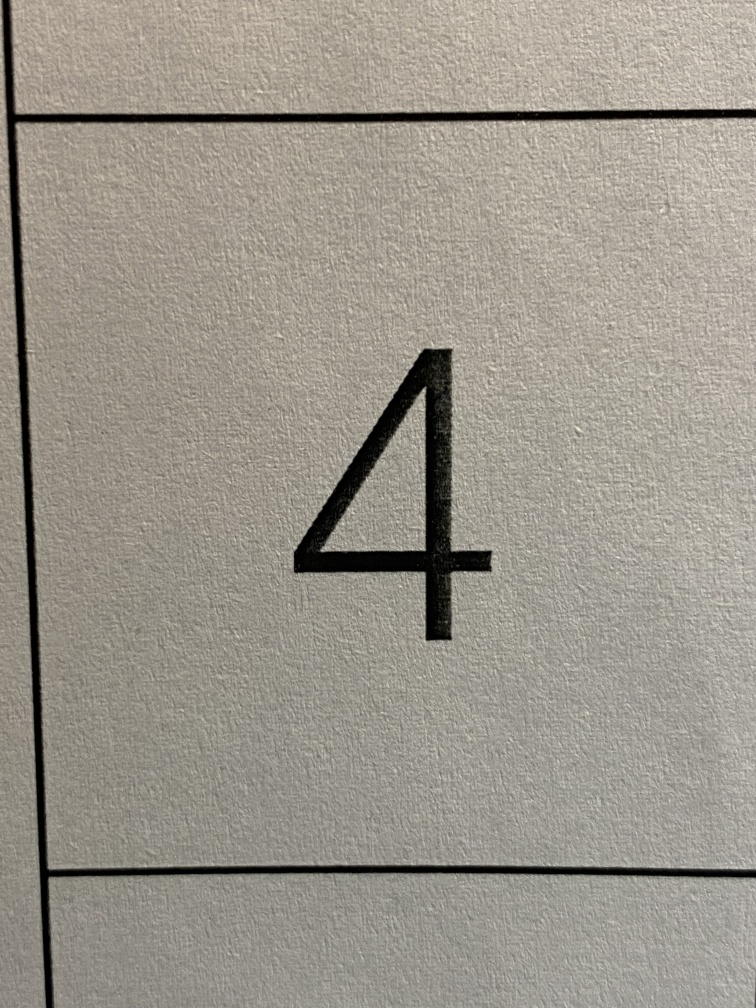four: (251, 286, 584, 710)
